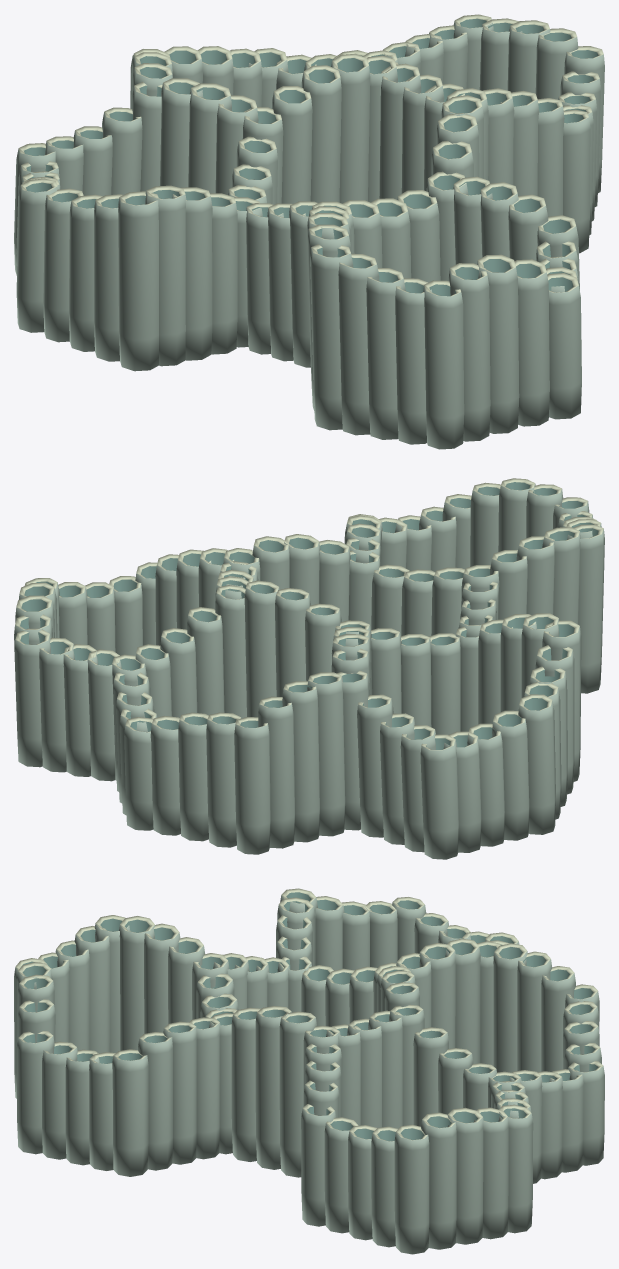
The model's file is halysites.glb.
The picture shows the model from 3 angles, top to bottom: view 1: azimuth 30°, elevation 25°; view 2: azimuth 150°, elevation 25°; view 3: azimuth 270°, elevation 25°; orthographic projection. The views are drawn at different scales.
Parts seen in each view (by area): view 1: open-looping-chains-of-upright-corallites; view 2: open-looping-chains-of-upright-corallites; view 3: open-looping-chains-of-upright-corallites.
Boxes of the visible parts, <box> form: open-looping-chains-of-upright-corallites: <box>14,14,604,449</box>; open-looping-chains-of-upright-corallites: <box>14,478,604,859</box>; open-looping-chains-of-upright-corallites: <box>14,888,604,1254</box>.
Bounding box in the file's own units: 0.1565 × 0.0486 × 0.1606.
